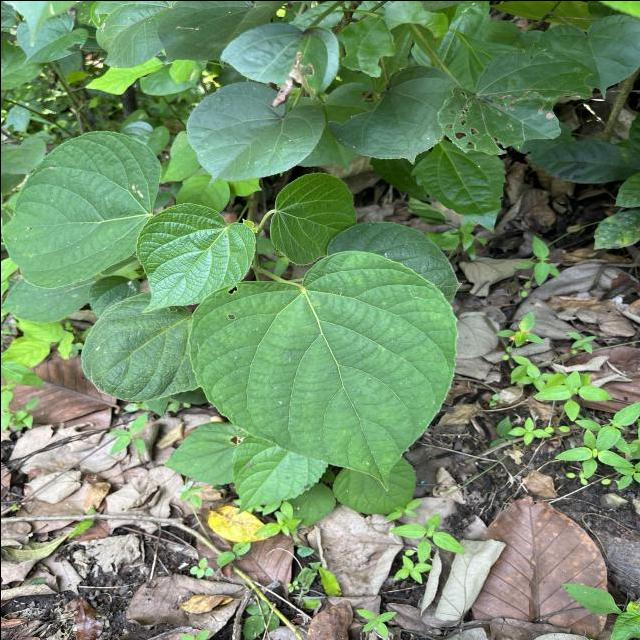Clerodendrum infortunatum: (185, 244, 459, 496), (0, 129, 161, 289), (124, 200, 257, 314), (78, 293, 194, 402), (267, 170, 357, 266)
